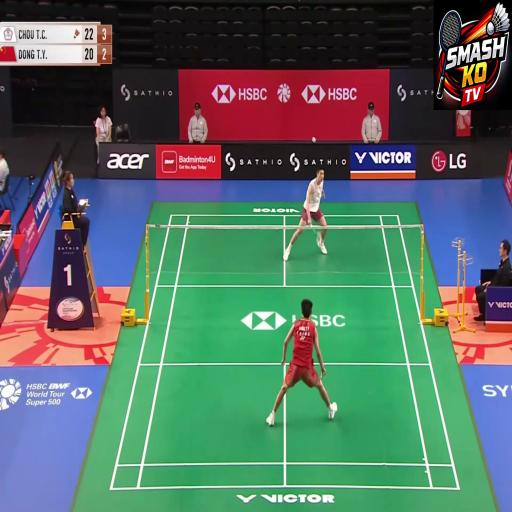player: (274, 280, 337, 458), (286, 156, 326, 263)
